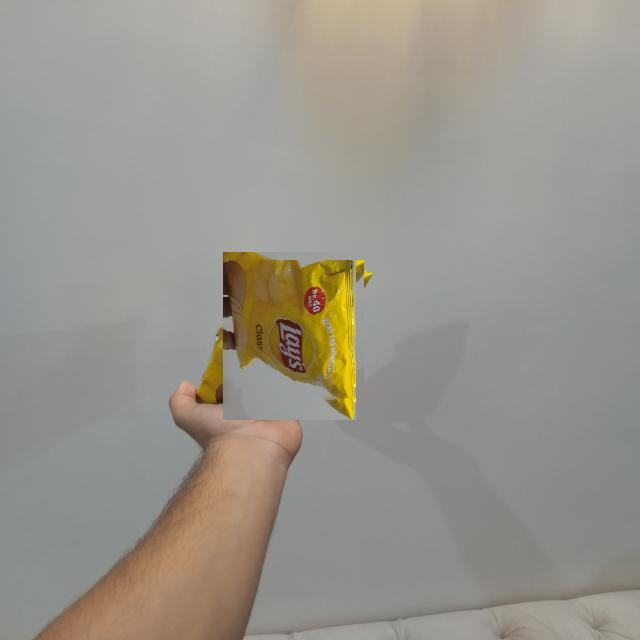Plastic: (213, 260, 364, 412)
